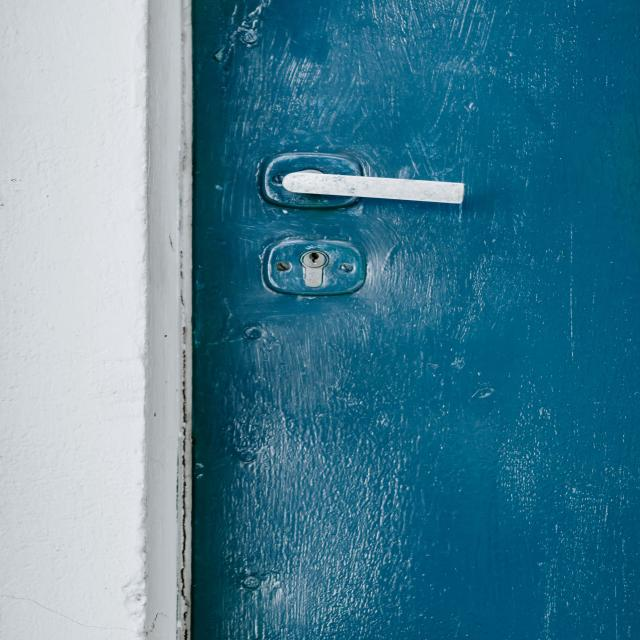door-handle: (261, 152, 465, 209)
